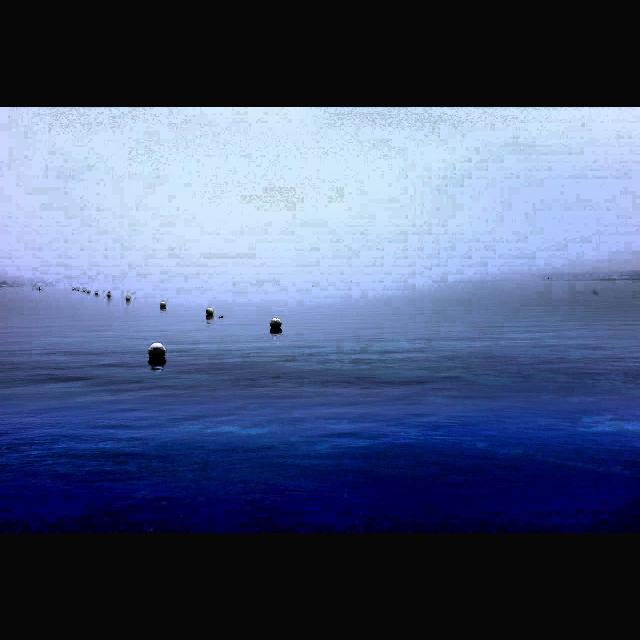buoy: (148, 342, 166, 361), (270, 316, 282, 330), (206, 308, 214, 318), (160, 301, 166, 309), (125, 297, 131, 303), (107, 292, 111, 298), (95, 292, 98, 296)
